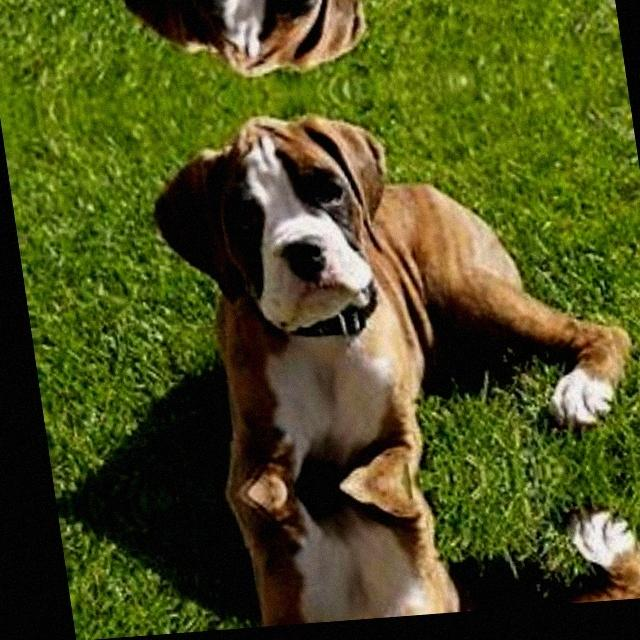dog: (125, 82, 638, 498), (180, 464, 640, 632), (104, 0, 578, 94)
